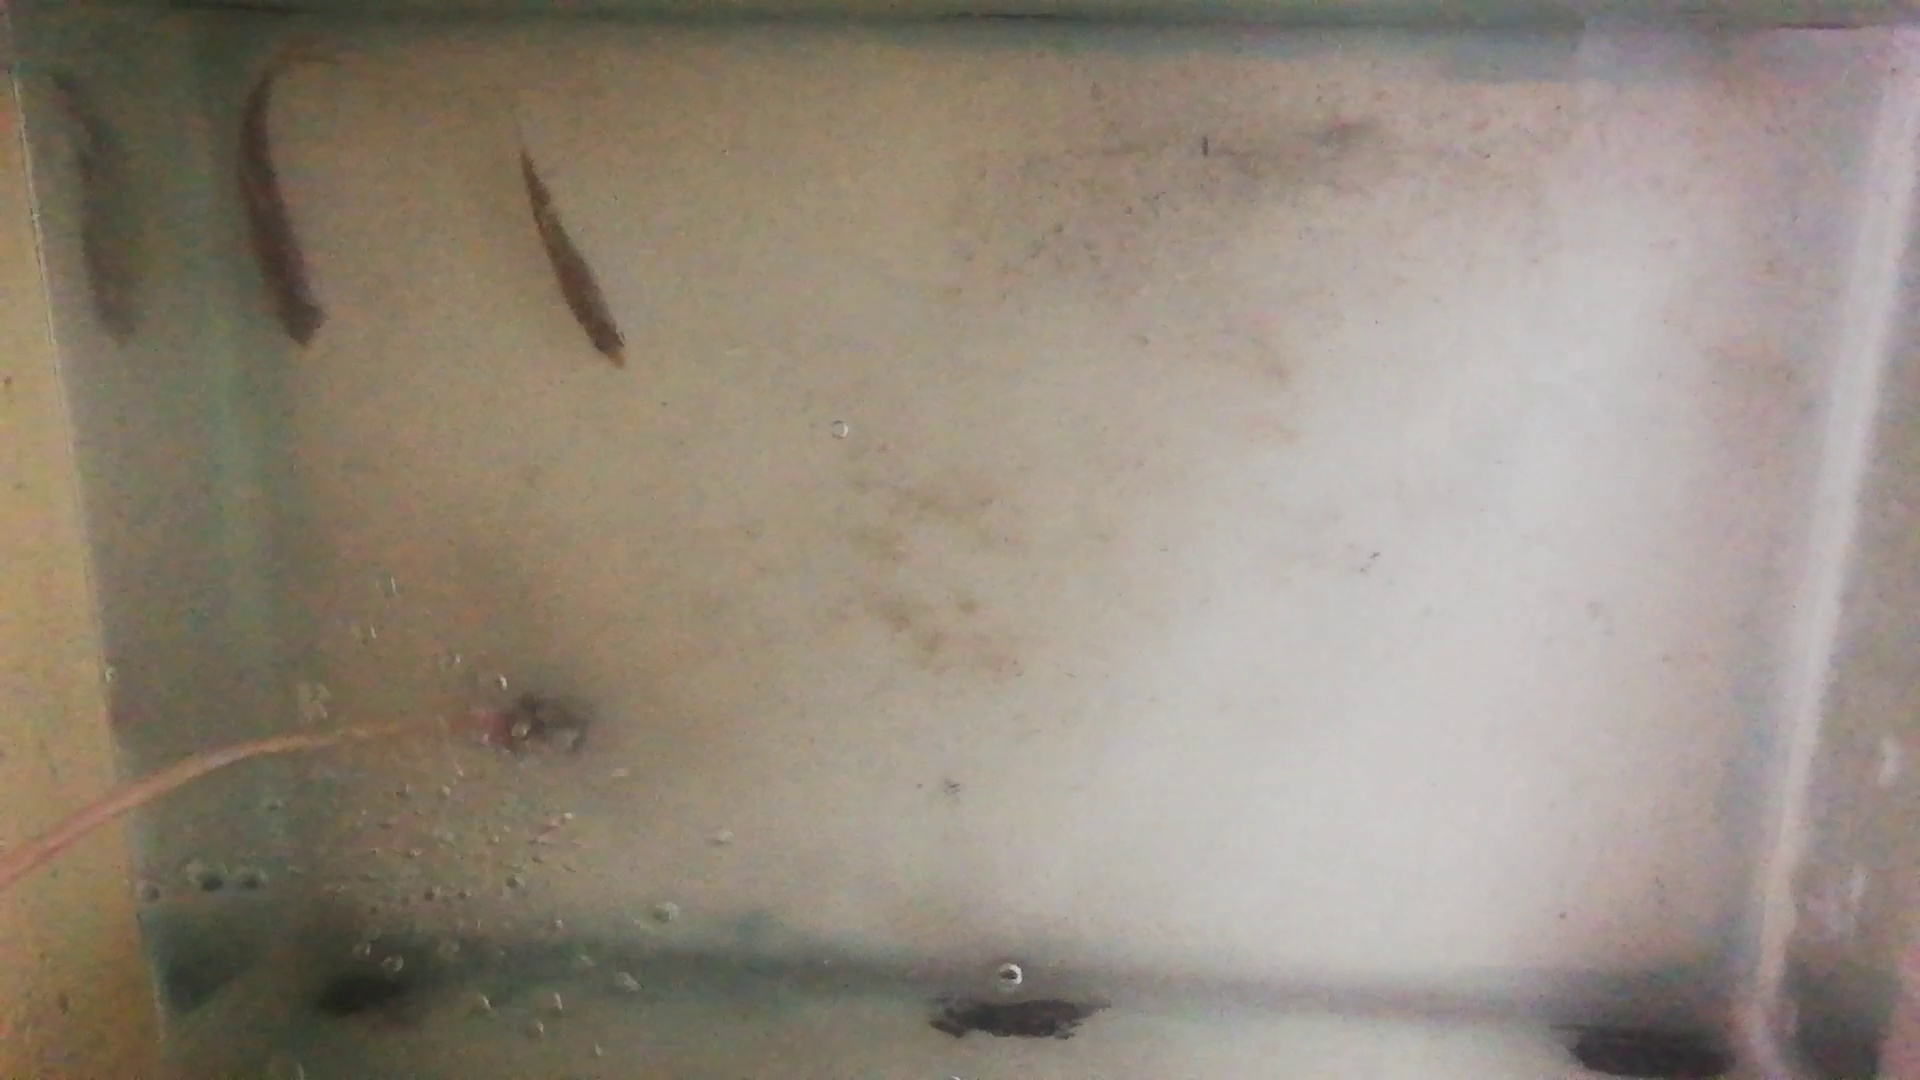fish: (520, 144, 632, 373), (233, 71, 326, 348)
